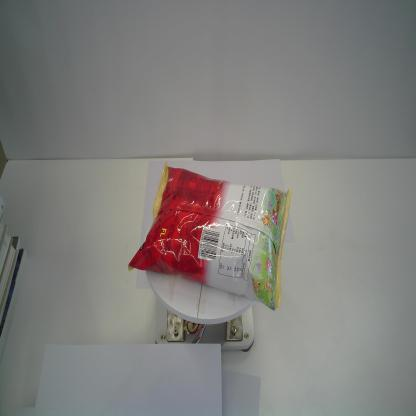Puffed Food: (127, 160, 292, 314)
